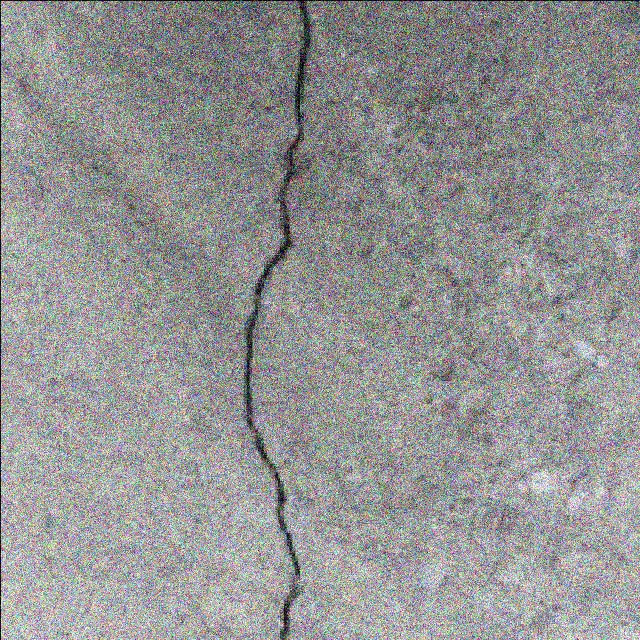SurfaceCrack: (224, 0, 336, 640)
